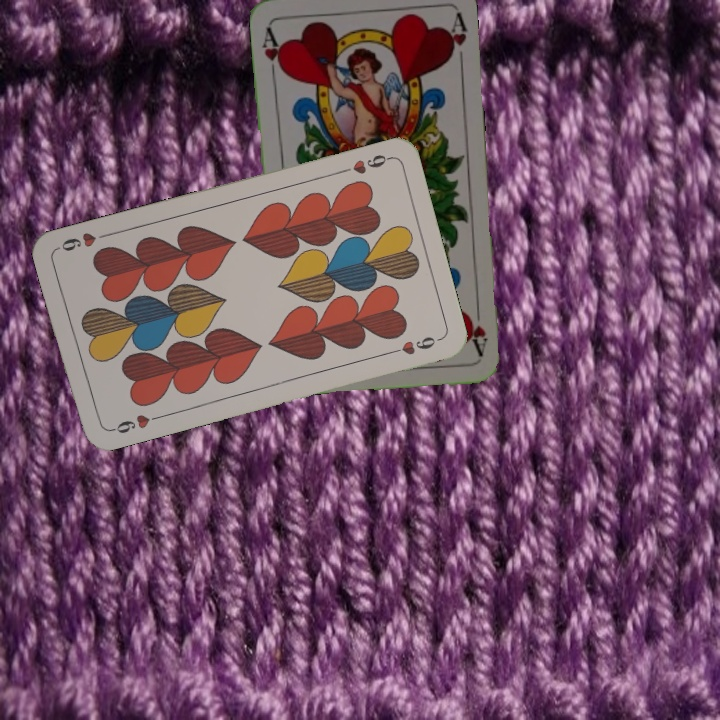H9: (335, 150, 393, 177), (105, 410, 163, 436)
HA: (258, 23, 287, 80), (462, 298, 490, 357)
